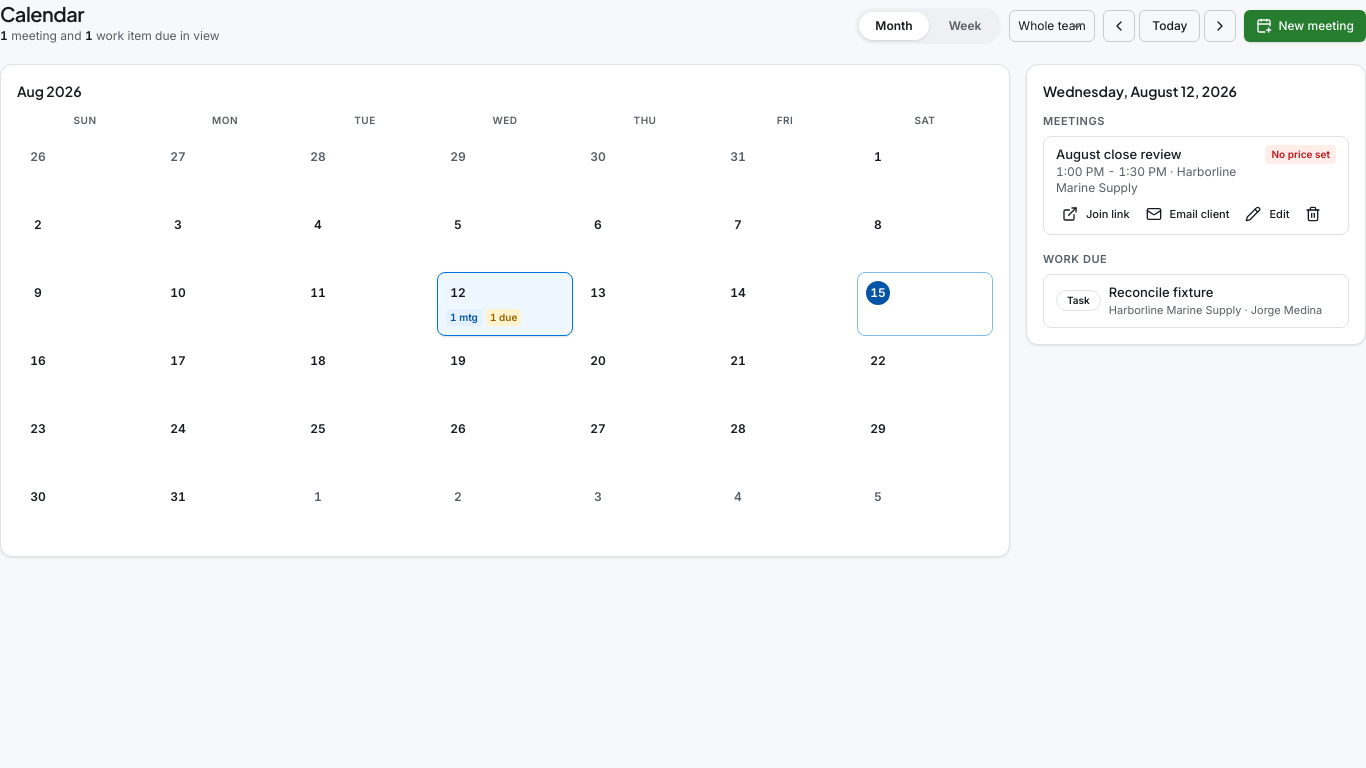
Test: CalendarViewRoot (month view) › opens the create dialog from the green action
Click the button with test id "new-meeting-button".
click(1305, 26)  # box [1244,10,1365,42]
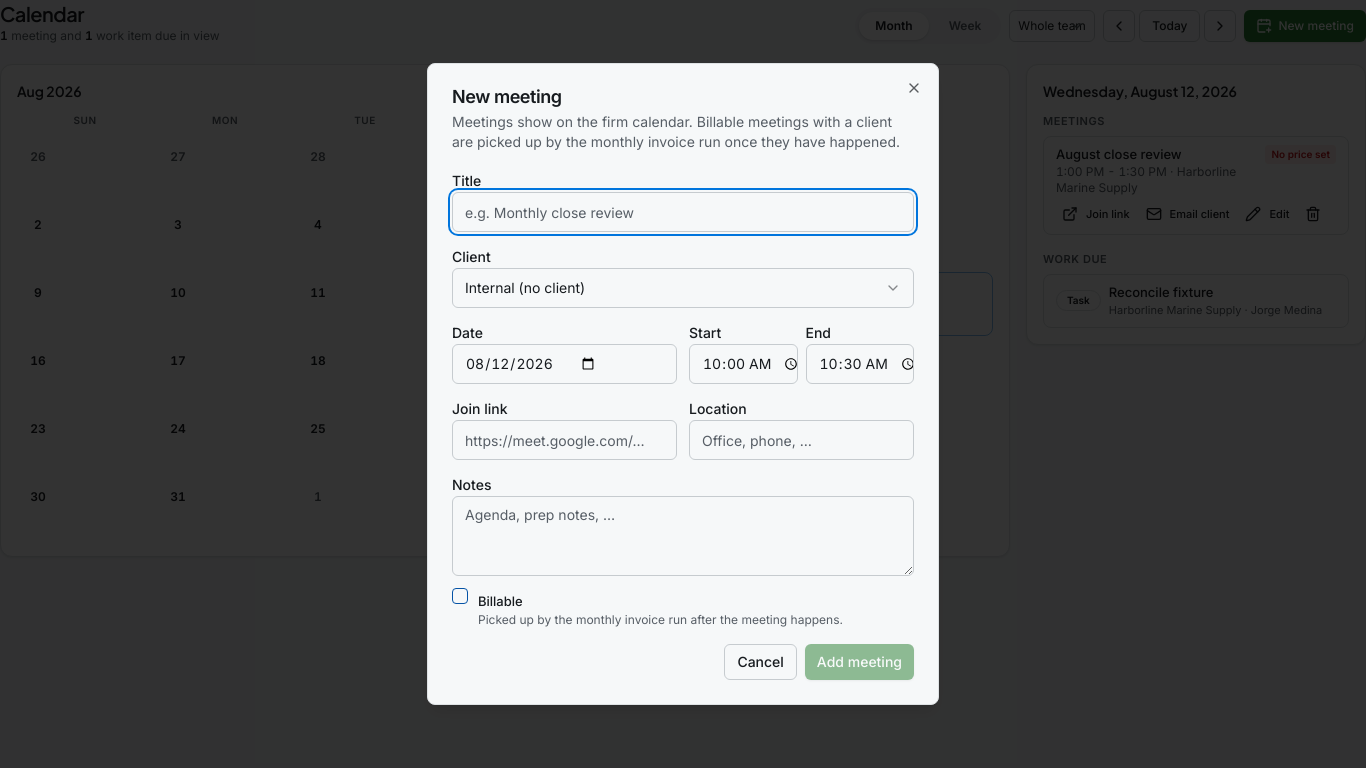
Result: the dialog with test id "meeting-dialog" is shown at [427,63,939,705]
